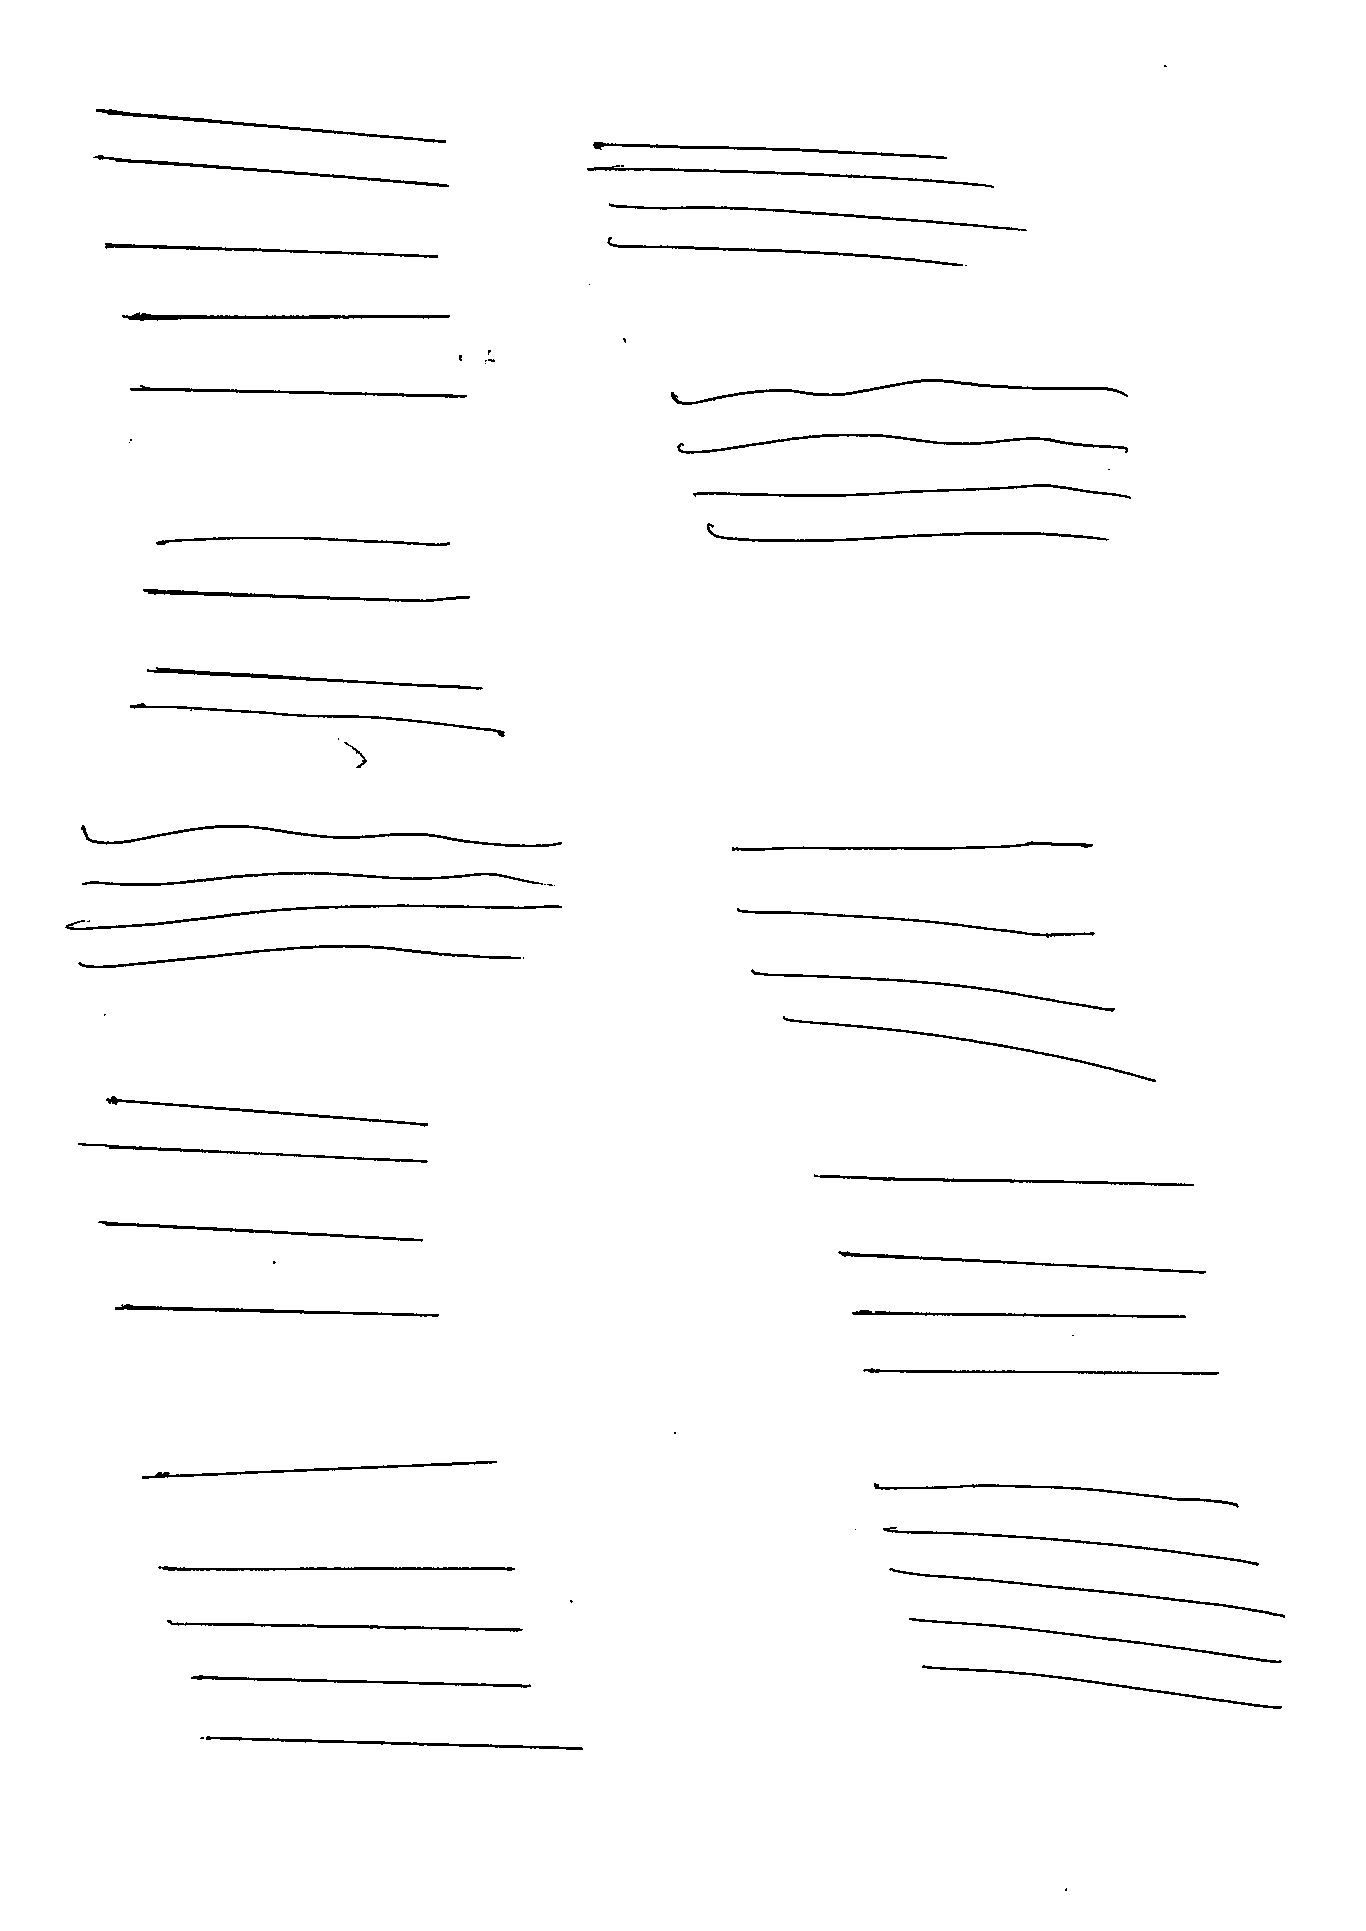Paragraph: (86, 106, 469, 404), (727, 838, 1158, 1088), (872, 1482, 1291, 1712), (812, 1175, 1223, 1379), (78, 1093, 444, 1319), (160, 1563, 585, 1754), (62, 821, 565, 974), (670, 379, 1132, 544), (585, 140, 1029, 268), (127, 662, 509, 739), (140, 537, 472, 606)
